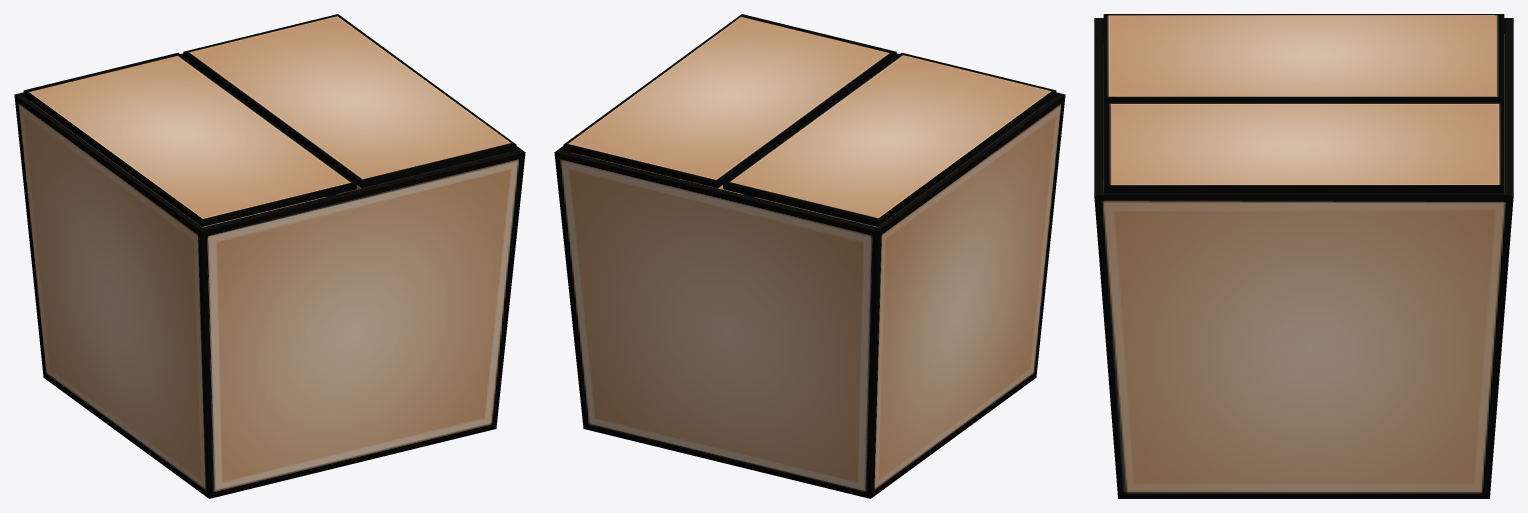
The model's file is Box_Normal.fbx.
3 renders of one model, left to right at view 1: azimuth 30°, elevation 25°; view 2: azimuth 150°, elevation 25°; view 3: azimuth 270°, elevation 25°, orthographic. The views are drawn at different scales.
Parts seen in each view (by area): view 1: box_Base, box_Flap_01, box_Flap_02; view 2: box_Base, box_Flap_01, box_Flap_02; view 3: box_Base, box_Flap_02, box_Flap_01.
Part boxes in pixels (x1,y1,x2,y2): box_Base: [14, 53, 525, 498]; box_Flap_01: [23, 52, 356, 226]; box_Flap_02: [183, 14, 516, 188]; box_Base: [554, 53, 1065, 498]; box_Flap_01: [723, 52, 1056, 226]; box_Flap_02: [563, 14, 896, 188]; box_Base: [1094, 18, 1513, 498]; box_Flap_02: [1103, 101, 1504, 192]; box_Flap_01: [1103, 14, 1504, 101].
Bounding box in the file's own units: 10 × 8.43 × 10.
1 material, 1 textured.
